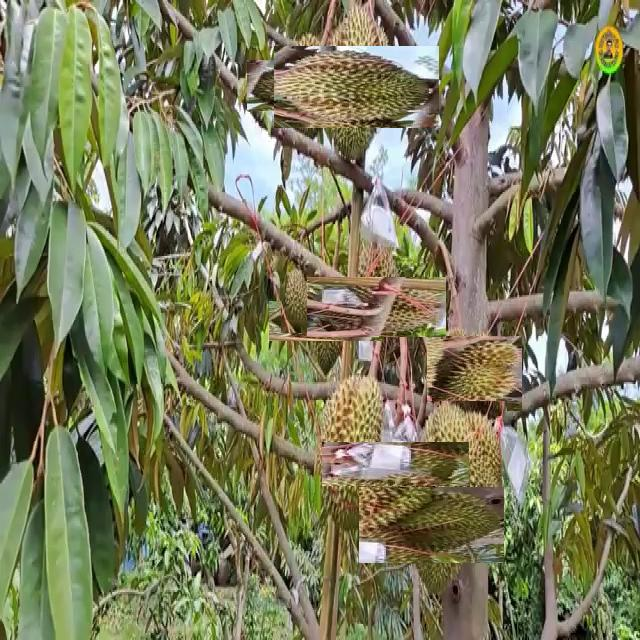durian: (295, 25, 419, 149), (314, 368, 391, 535), (417, 401, 507, 538), (377, 469, 487, 581), (327, 256, 426, 357), (348, 416, 443, 512), (431, 331, 517, 416), (263, 43, 348, 128), (287, 282, 366, 359), (280, 256, 324, 333)
